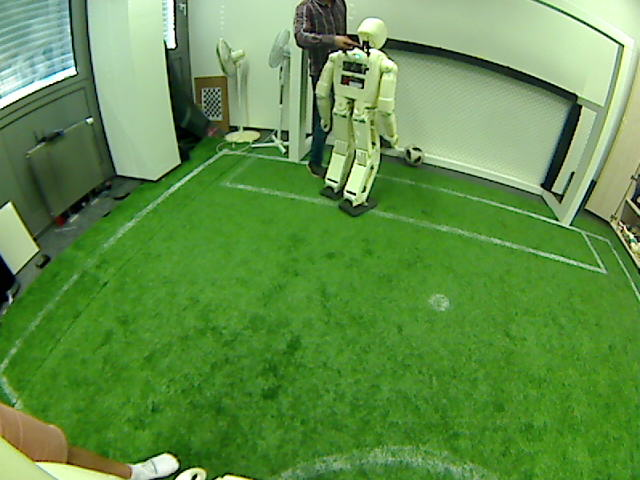ball: (402, 141, 428, 170)
goalpost: (553, 180, 576, 229), (286, 128, 303, 162)
robot: (312, 137, 378, 212)
